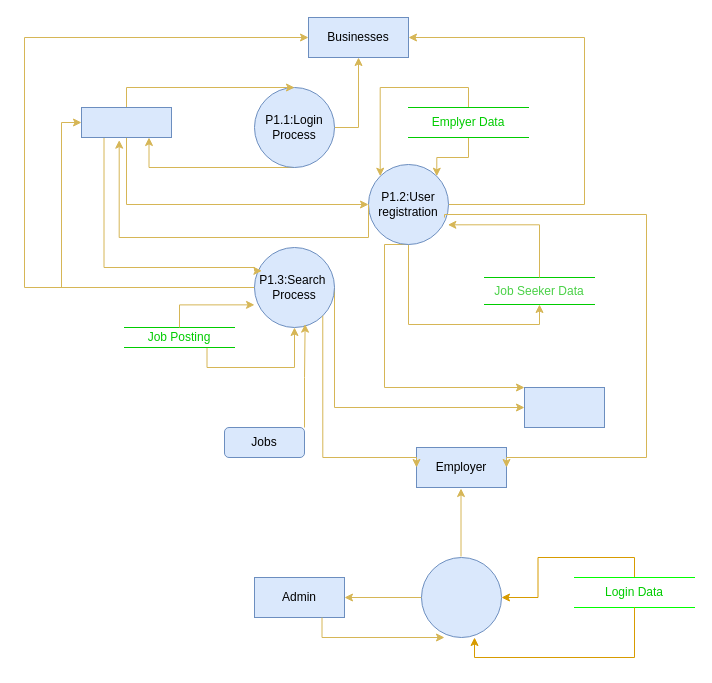
Some shapes in this 712 by 683 pixel diagram are drawn without their labels. Here are the shapes that lost their labels. From the top down, the box of each, then its label:
(80, 106, 172, 138): User
(524, 386, 604, 428): Job Seeker
(420, 556, 502, 638): P1.4:Manage users
